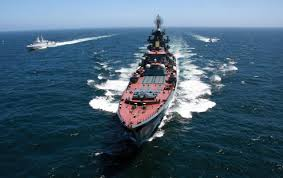tau_muctieu: (117, 20, 183, 150), (25, 34, 60, 49)
